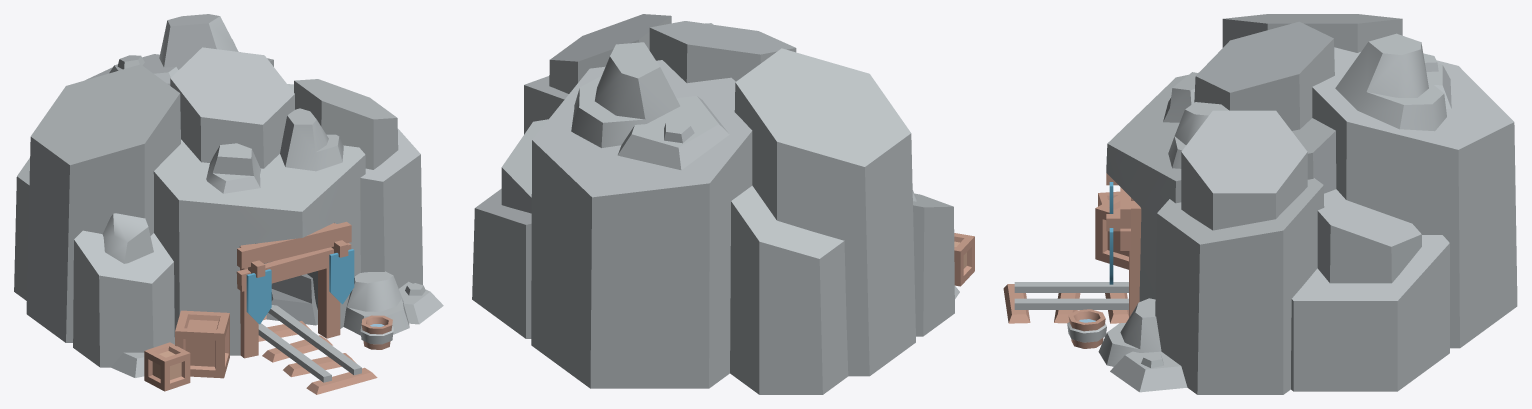
The model's file is mine_part.glb.
3 views of the same model, side by side, from view 1: azimuth 30°, elevation 25°; view 2: azimuth 150°, elevation 25°; view 3: azimuth 270°, elevation 25° (orthographic). The views are drawn at different scales.
Visible parts, largest first — view 1: X_building_mine_blue; view 2: X_building_mine_blue; view 3: X_building_mine_blue.
Part boxes in pixels (x1,y1,x2,y2): X_building_mine_blue: (14, 14, 443, 394); X_building_mine_blue: (472, 14, 974, 394); X_building_mine_blue: (1003, 14, 1517, 394).
Size of the model in its own units: 1.61 by 1.14 by 1.92.
